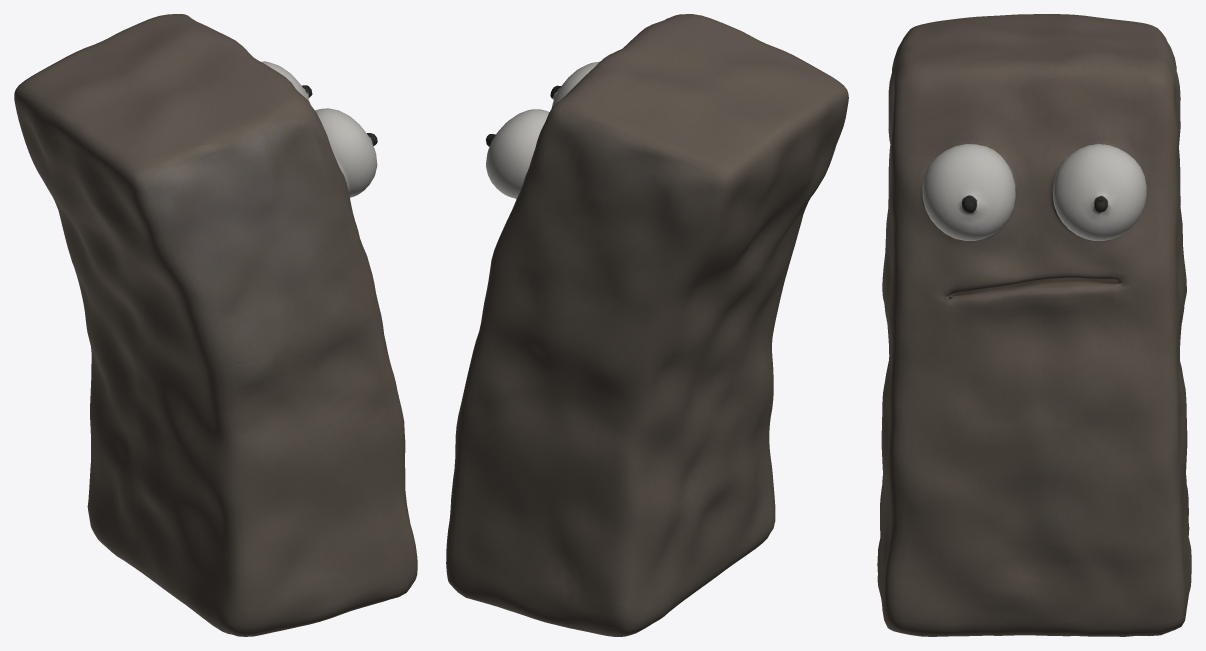
The model's file is don.glb.
The picture shows the model from 3 angles, left to right: view 1: azimuth 30°, elevation 25°; view 2: azimuth 150°, elevation 25°; view 3: azimuth 270°, elevation 25°; orthographic projection.
Parts seen in each view (by area): view 1: tripo_node_1e632b03; view 2: tripo_node_1e632b03; view 3: tripo_node_1e632b03.
Boxes of the visible parts, bbox=[...] form: tripo_node_1e632b03: bbox=[14, 14, 417, 636]; tripo_node_1e632b03: bbox=[446, 14, 848, 636]; tripo_node_1e632b03: bbox=[877, 14, 1191, 636].
Size of the model in its own units: 0.568 by 0.9997 by 0.5335.
1 material, 1 textured.
